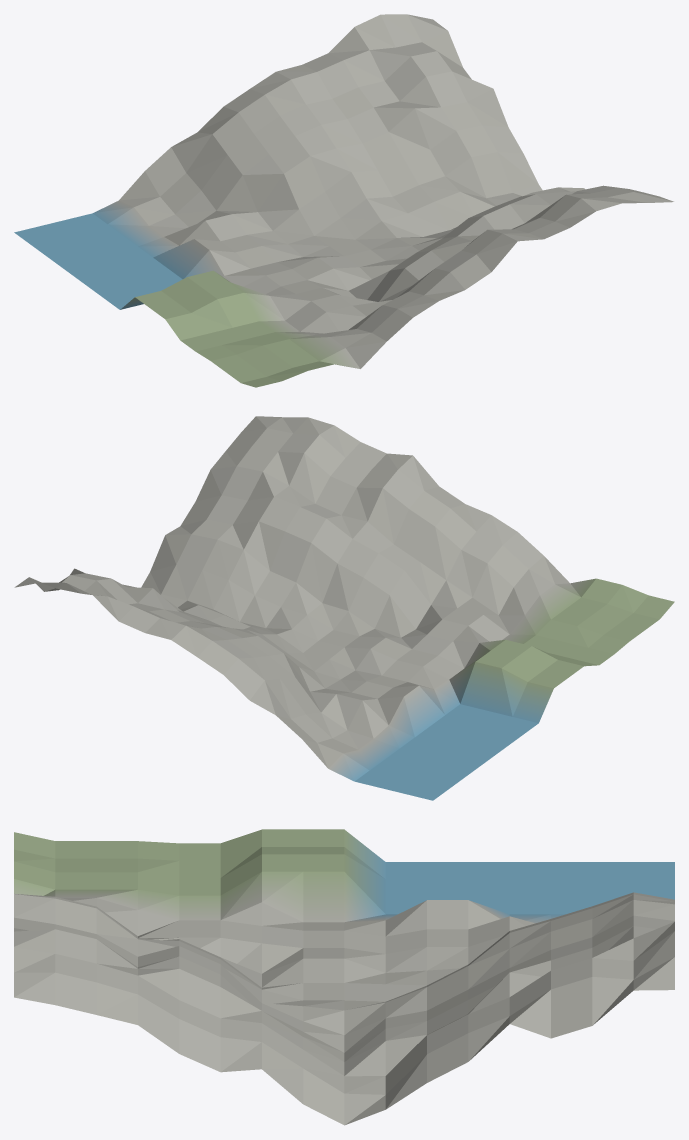
3 renders of one model, top to bottom at view 1: azimuth 30°, elevation 25°; view 2: azimuth 150°, elevation 25°; view 3: azimuth 270°, elevation 25°, orthographic. The views are drawn at different scales.
Bounding box in the file's own units: 32 × 9.38 × 32.
